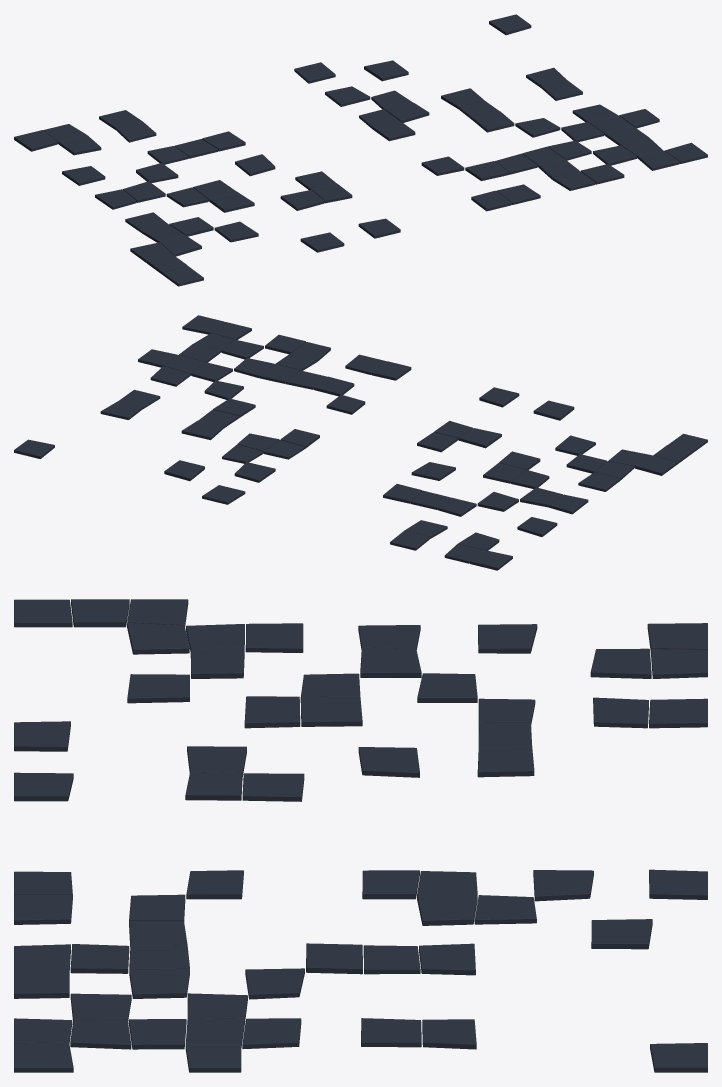
The model's file is Floor1_FloorStoneLight.fbx.
3 renders of one model, top to bottom at view 1: azimuth 30°, elevation 25°; view 2: azimuth 150°, elevation 25°; view 3: azimuth 270°, elevation 25°, orthographic. The views are drawn at different scales.
Parts seen in each view (by area): view 1: Floor0_0_0.001; view 2: Floor0_0_0.001; view 3: Floor0_0_0.001.
Part boxes in pixels (x1,y1,x2,y2): Floor0_0_0.001: (14, 14, 707, 286); Floor0_0_0.001: (14, 315, 707, 570); Floor0_0_0.001: (14, 599, 707, 1072).
Bounding box in the file's own units: 14986 × 85.79 × 9386.
